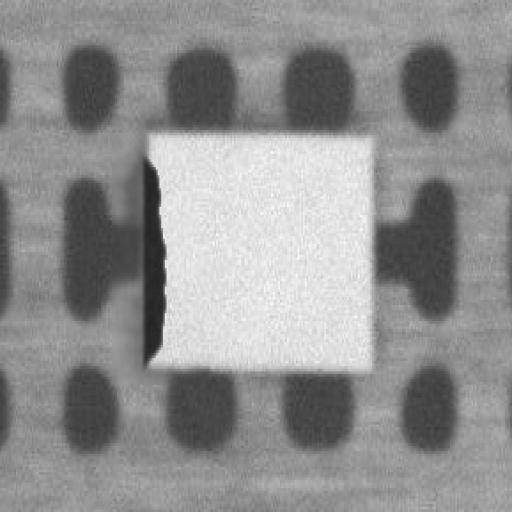DIE_BROKEN: (204, 94, 252, 248)
